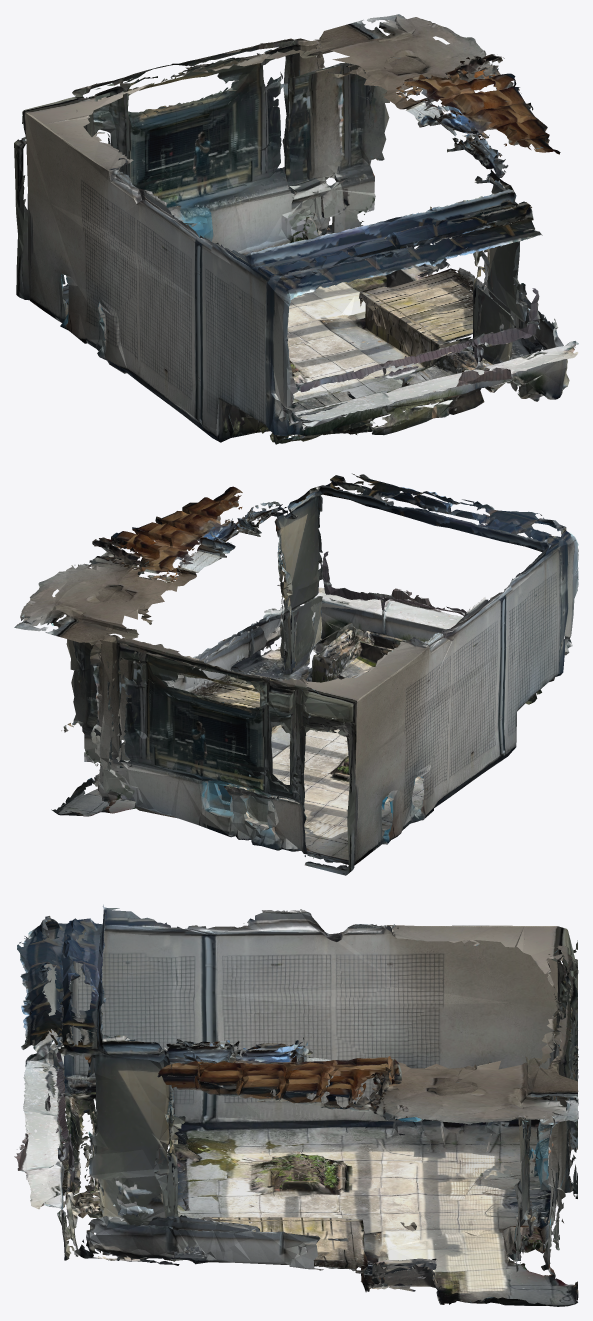
Rendered from TopBalcony_LOW_POLY.fbx.
The picture shows the model from 3 angles, top to bottom: view 1: azimuth 30°, elevation 25°; view 2: azimuth 150°, elevation 25°; view 3: azimuth 270°, elevation 25°; orthographic projection. The views are drawn at different scales.
Parts seen in each view (by area): view 1: TopBalcony_LOW_POLY; view 2: TopBalcony_LOW_POLY; view 3: TopBalcony_LOW_POLY.
Part boxes in pixels (x1,y1,x2,y2): TopBalcony_LOW_POLY: (14, 14, 578, 444); TopBalcony_LOW_POLY: (14, 473, 578, 875); TopBalcony_LOW_POLY: (14, 904, 578, 1306).
Size of the model in its own units: 562 by 310 by 650.
1 material, 1 textured.
